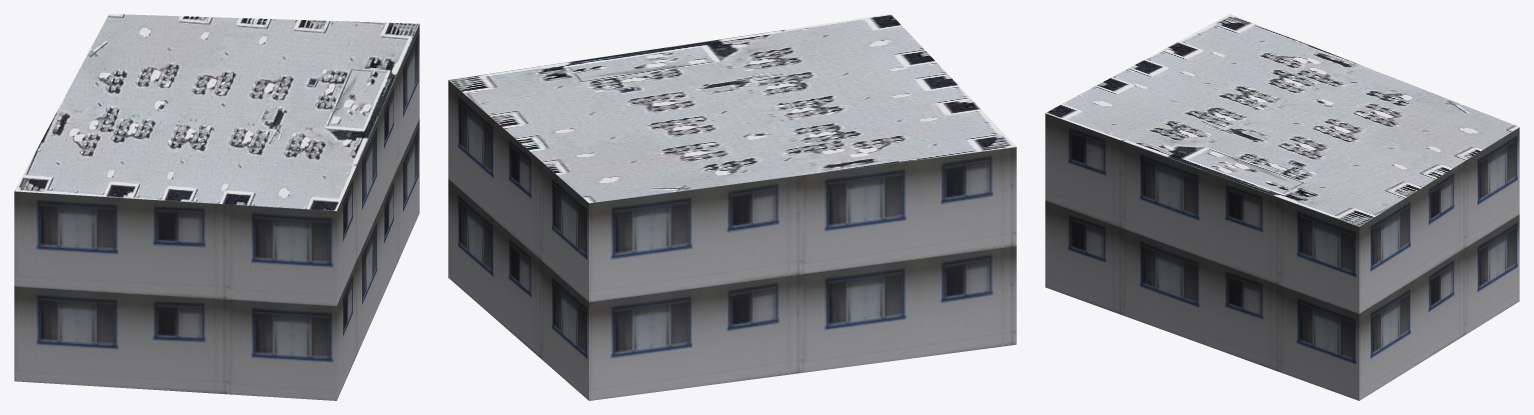
The model's file is ResTex__2412.fbx.
3 renders of one model, left to right at view 1: azimuth 30°, elevation 25°; view 2: azimuth 150°, elevation 25°; view 3: azimuth 270°, elevation 25°, orthographic. The views are drawn at different scales.
Parts seen in each view (by area): view 1: CityEngineMaterial_9_m, CityEngineMaterial_2_m; view 2: CityEngineMaterial_9_m, CityEngineMaterial_2_m; view 3: CityEngineMaterial_9_m, CityEngineMaterial_2_m.
Part boxes in pixels (<box>): CityEngineMaterial_9_m: <box>14,24,419,400</box>; CityEngineMaterial_2_m: <box>15,14,418,210</box>; CityEngineMaterial_9_m: <box>448,80,1016,400</box>; CityEngineMaterial_2_m: <box>449,14,1016,203</box>; CityEngineMaterial_9_m: <box>1045,113,1519,400</box>; CityEngineMaterial_2_m: <box>1045,14,1519,226</box>.
Bounding box in the file's own units: 15.72 × 6 × 14.82.
2 materials, 2 textured.
